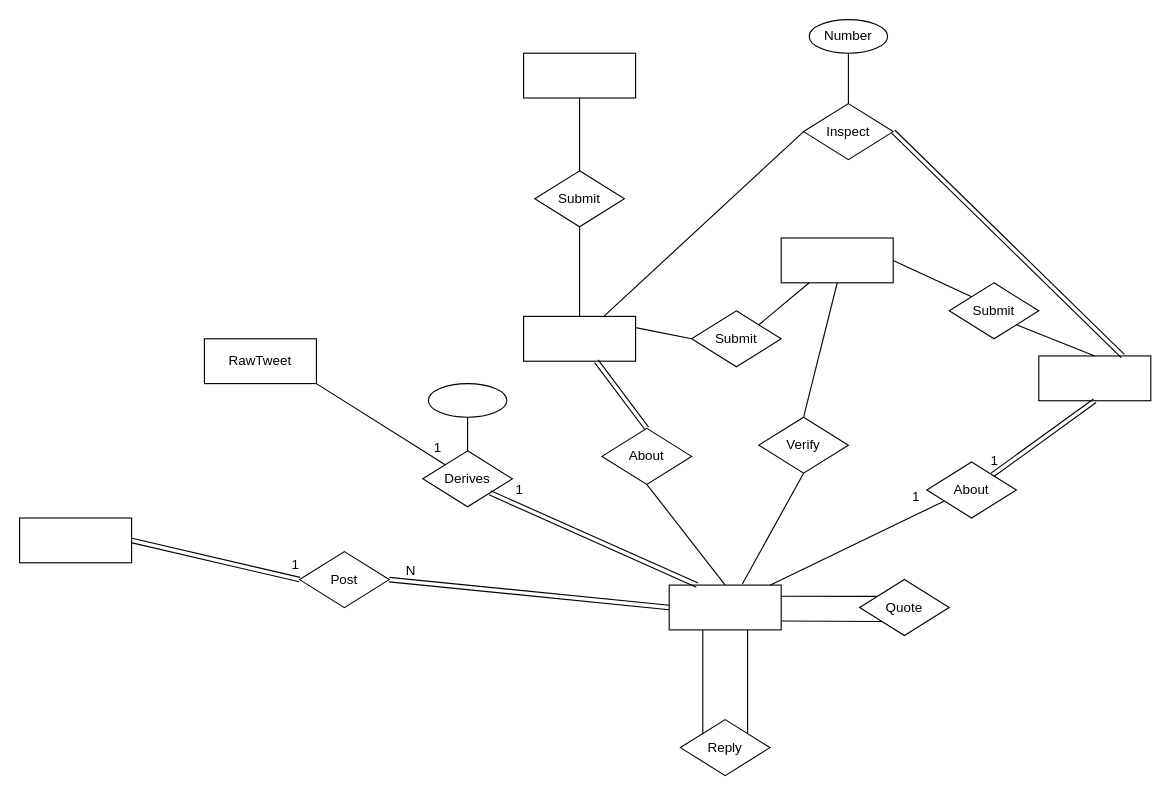
Some shapes in this 1170 by 795 pixel diagram are drawn without their labels. The centre of each missing label's shape, as x and y in pixels:
"Checker" goes at pixel 836 260.
"Evidence" goes at pixel 579 338.
"Json" goes at pixel 467 399.
"Tweet" goes at pixel 724 607.
"Tweeter" goes at pixel 75 540.
"User" goes at pixel 579 75.
"Verification" goes at pixel 1094 378.
